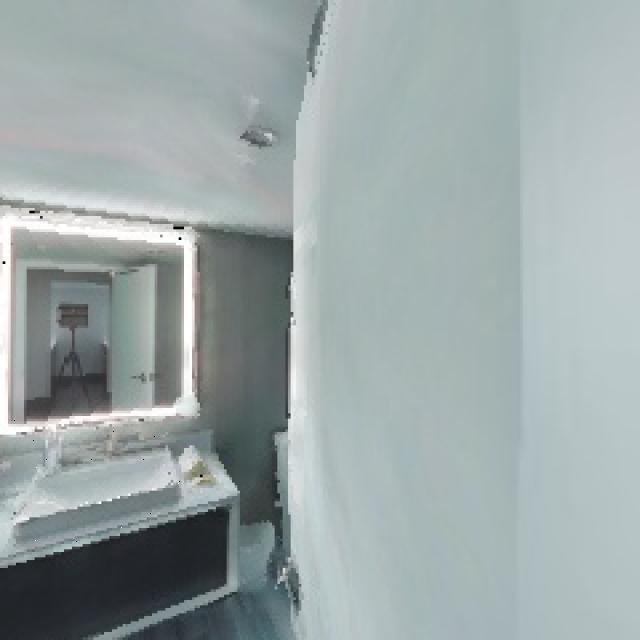sink: (6, 413, 183, 542)
